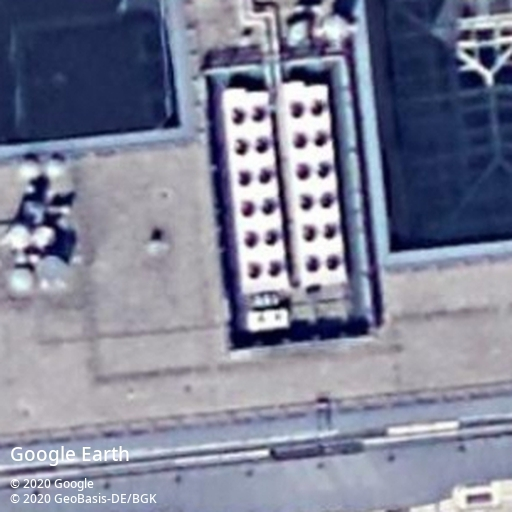Chiller: (276, 79, 350, 289), (218, 85, 292, 295)
